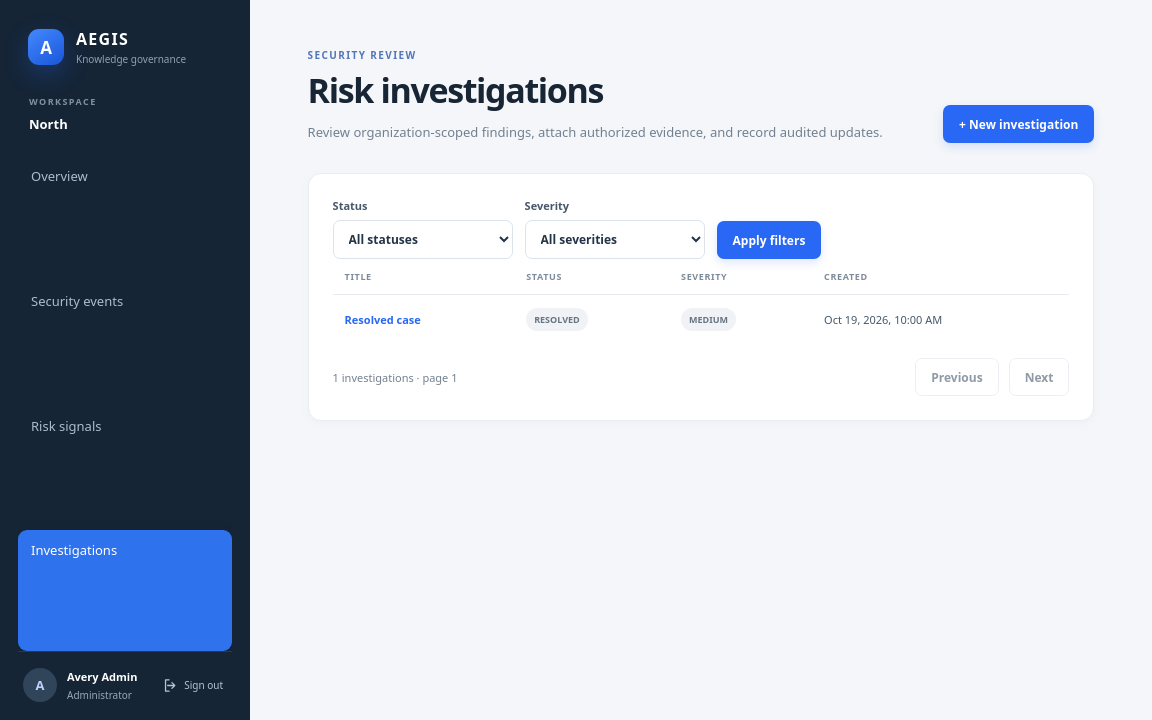
Test: risk investigation workflow › shows resolved investigations as read-only
This screenshot has width=1152, height=720.
Click the button "Resolved case" at (383, 320), box [345,312,421,327]
(page scrolled)
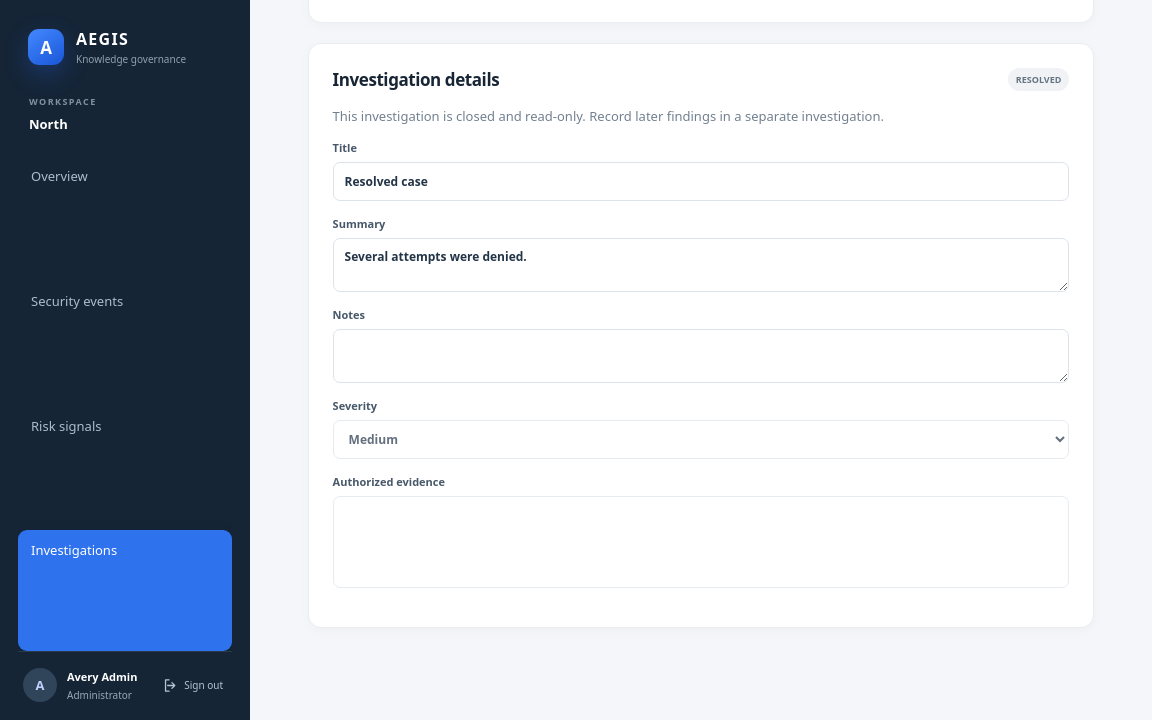
Expected: the text "closed and read-only" is shown, [333,107,884,125]
Expected: the field labelled "Title" is disabled, [333,162,1069,201]
Expected: the text box labelled "Summary" is disabled, [333,238,1069,292]
